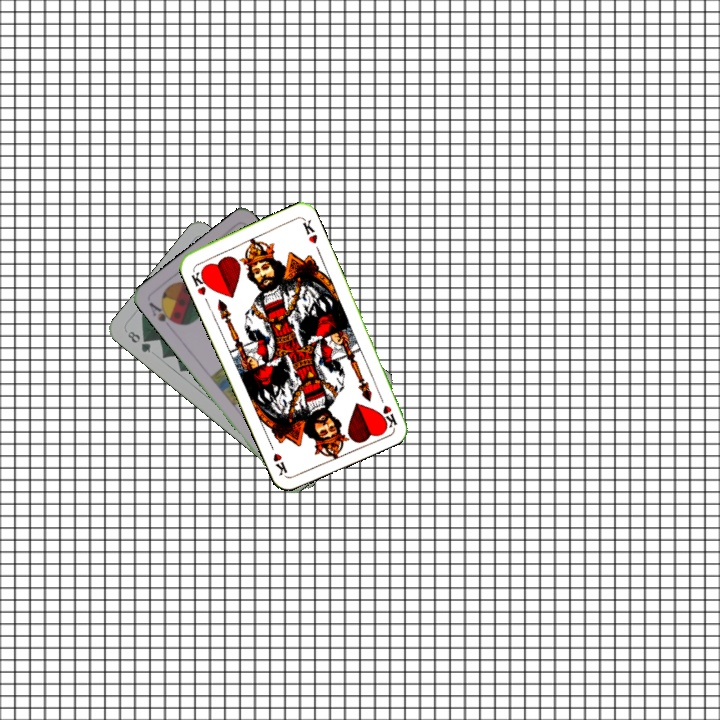G8: (123, 327, 154, 355)
HK: (374, 389, 400, 429), (187, 266, 212, 298)
SA: (145, 298, 180, 327)
